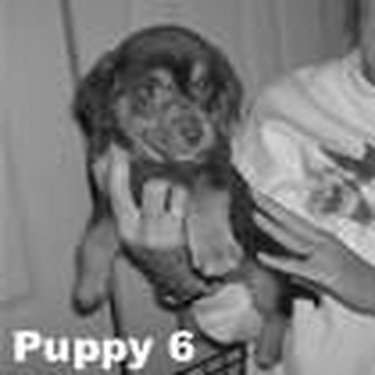dog: (55, 20, 325, 372)
